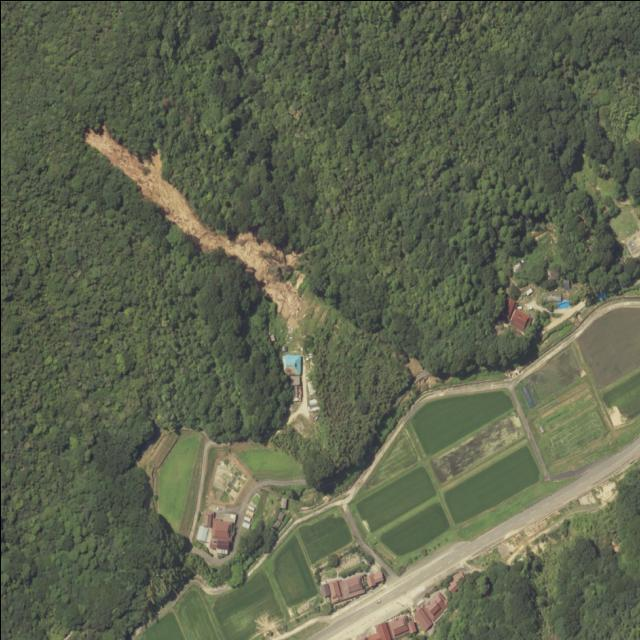landslide: (83, 125, 301, 318)
